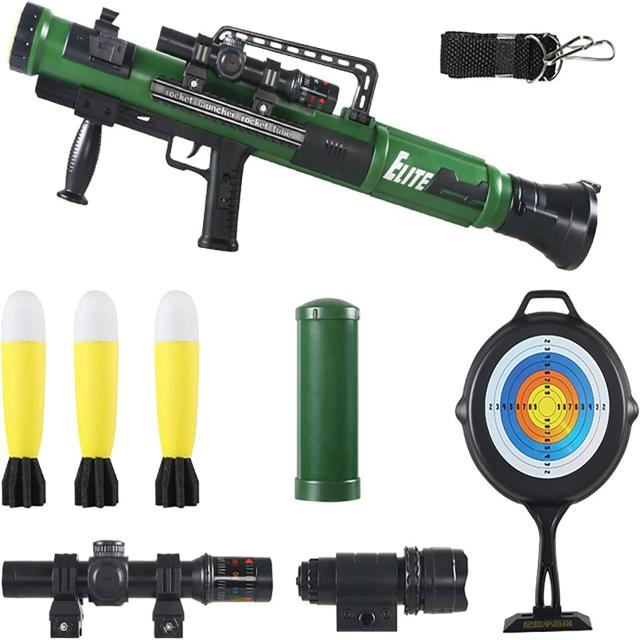bazooka: (5, 1, 615, 278)
